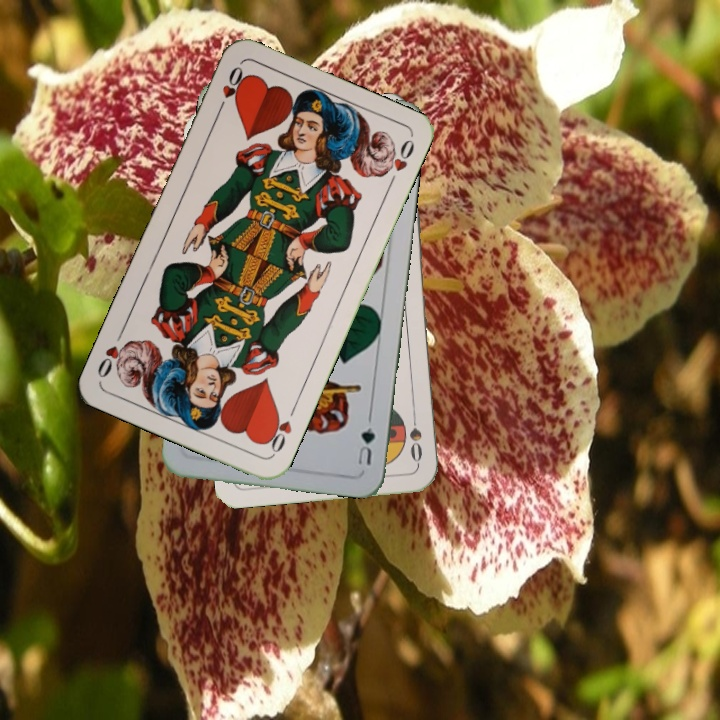GU: (353, 413, 378, 468)
HO: (261, 401, 299, 457), (213, 62, 248, 117)
SO: (405, 407, 425, 466)
